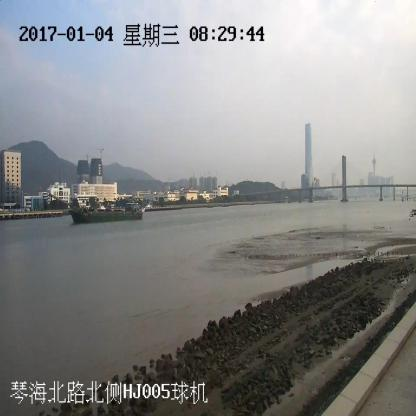Bulk Carrier: (48, 194, 142, 220)
